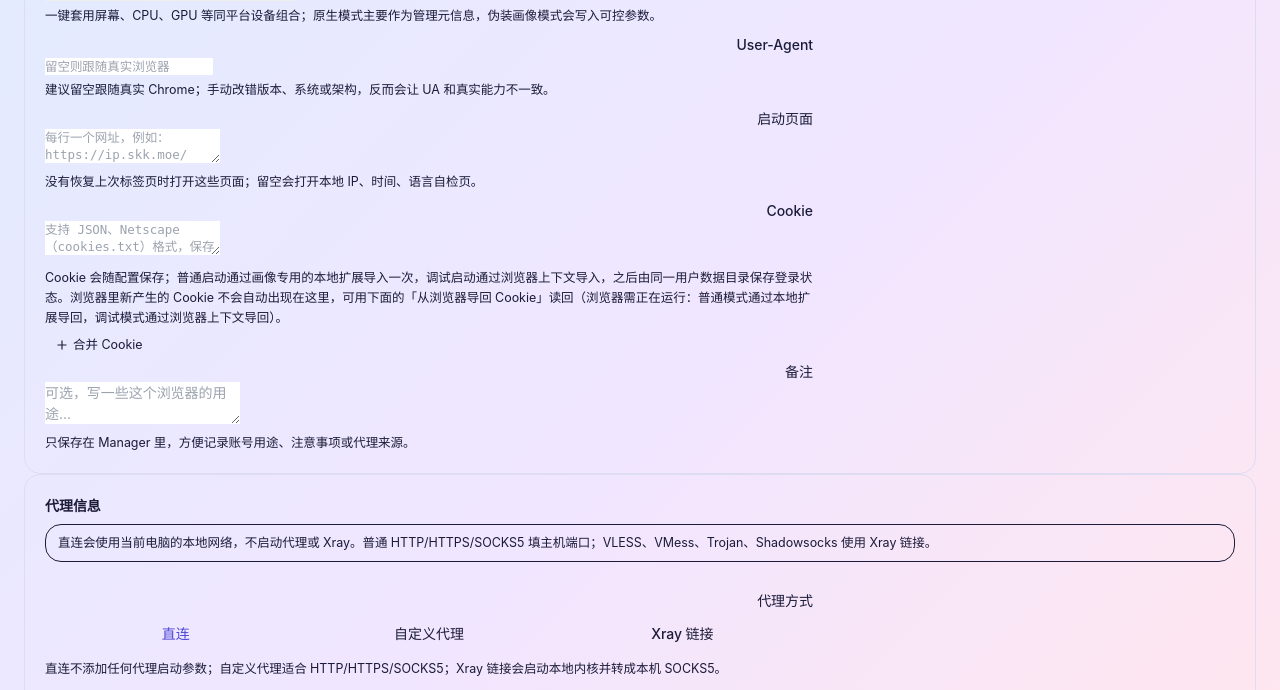
Test: ProfileForm cookies and layout › shows the merge error from the backend
The image size is (1280, 690).
(page scrolled)
Click the button "合并 Cookie" at {"x": 99, "y": 344}, box [45, 336, 152, 353]
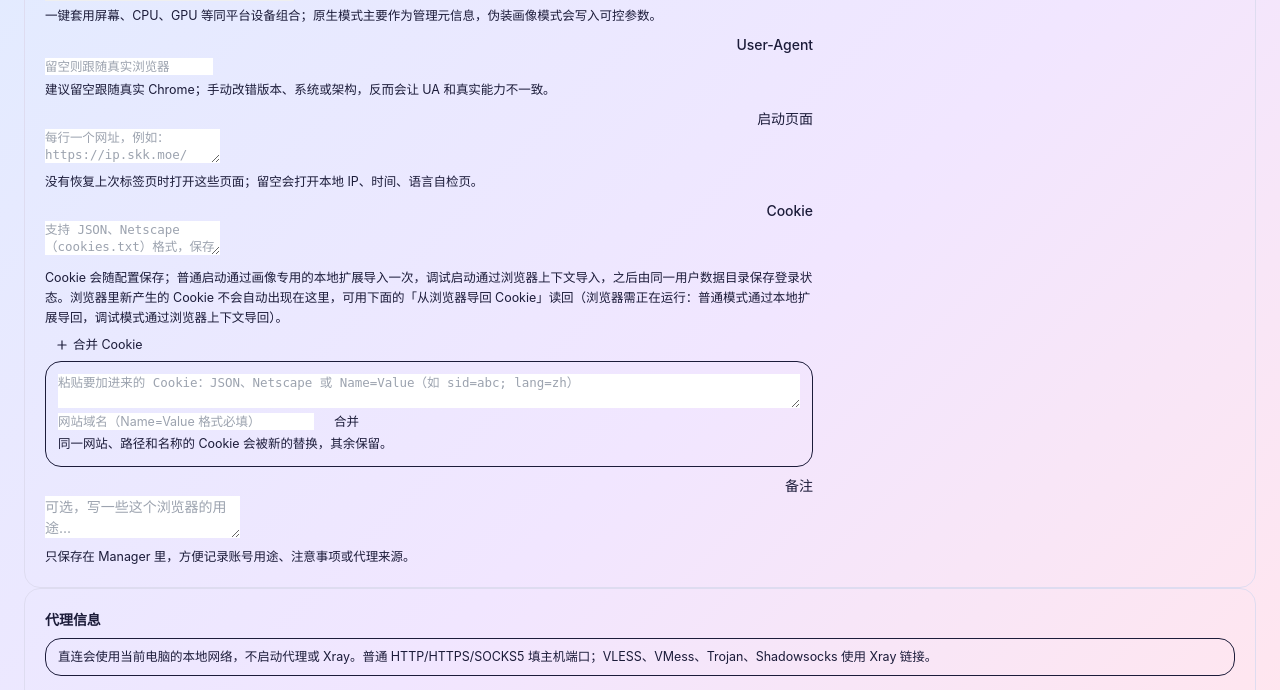
Replace the text in the text box with placeholder "粘贴要加进来的 Cookie" with "sid=abc" at {"x": 429, "y": 391}, box [58, 374, 800, 408]
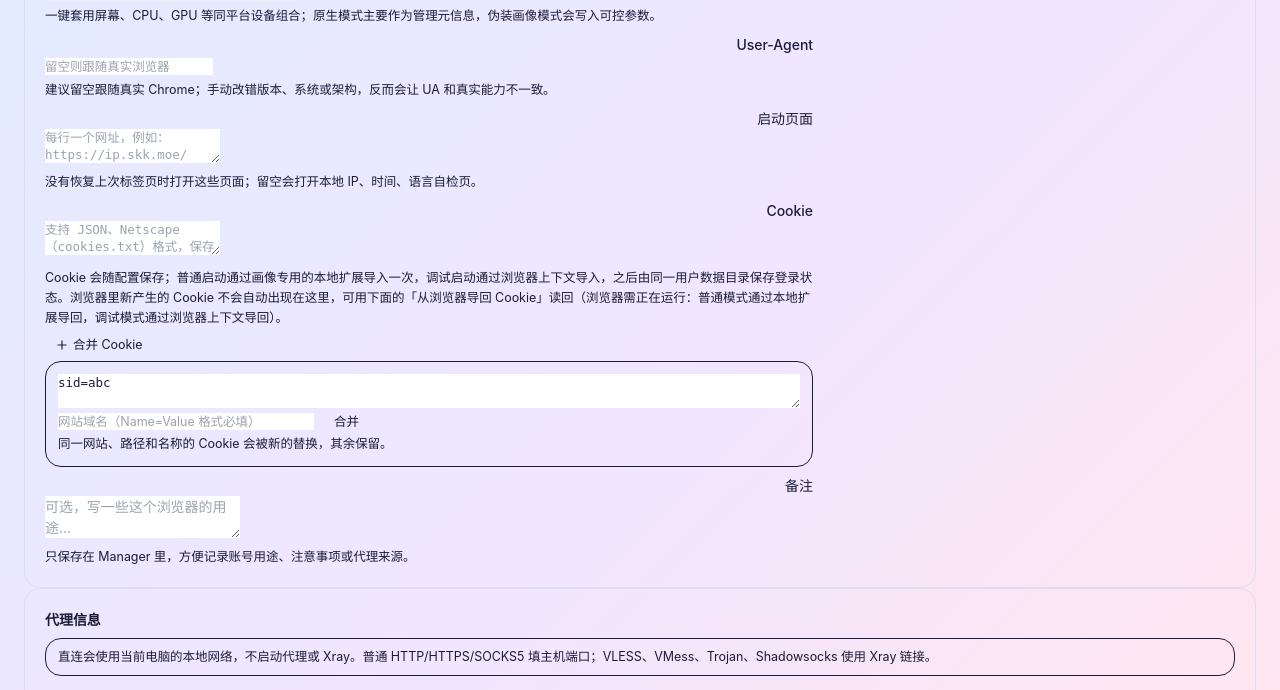
Click the button "合并" at {"x": 346, "y": 422}, box [322, 413, 371, 430]
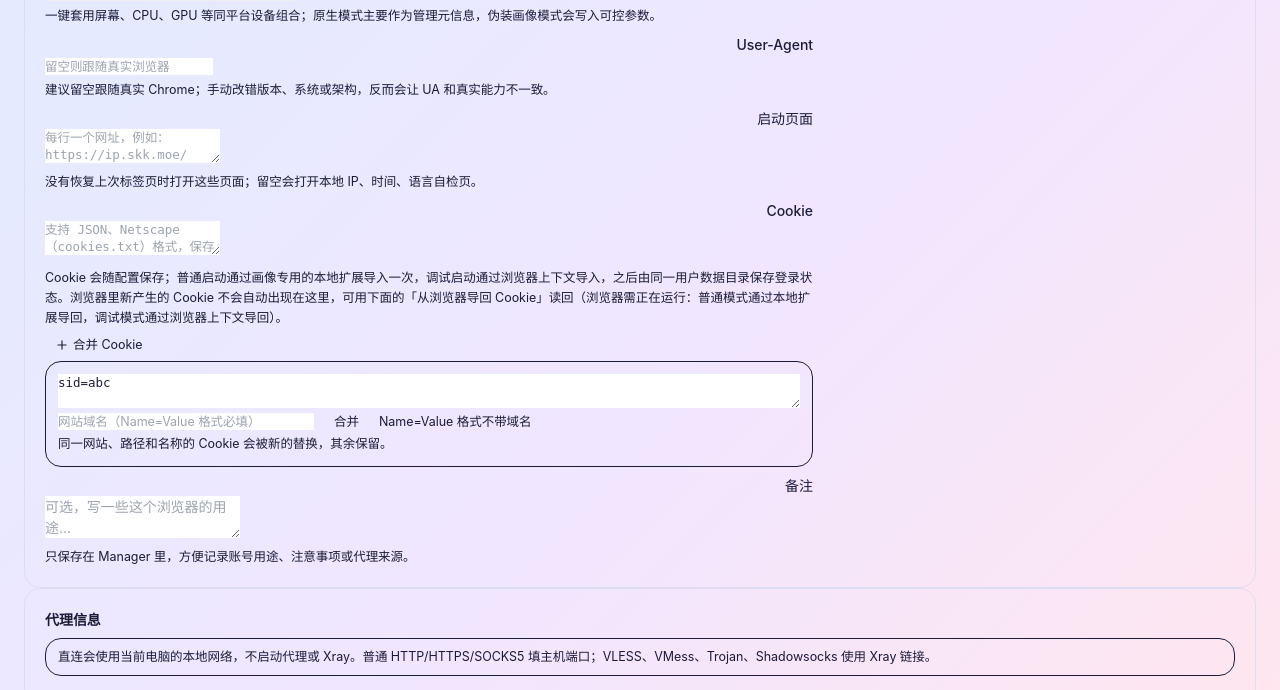
expect the text "Name=Value 格式不带域名" is shown: met, box [379, 413, 532, 430]
